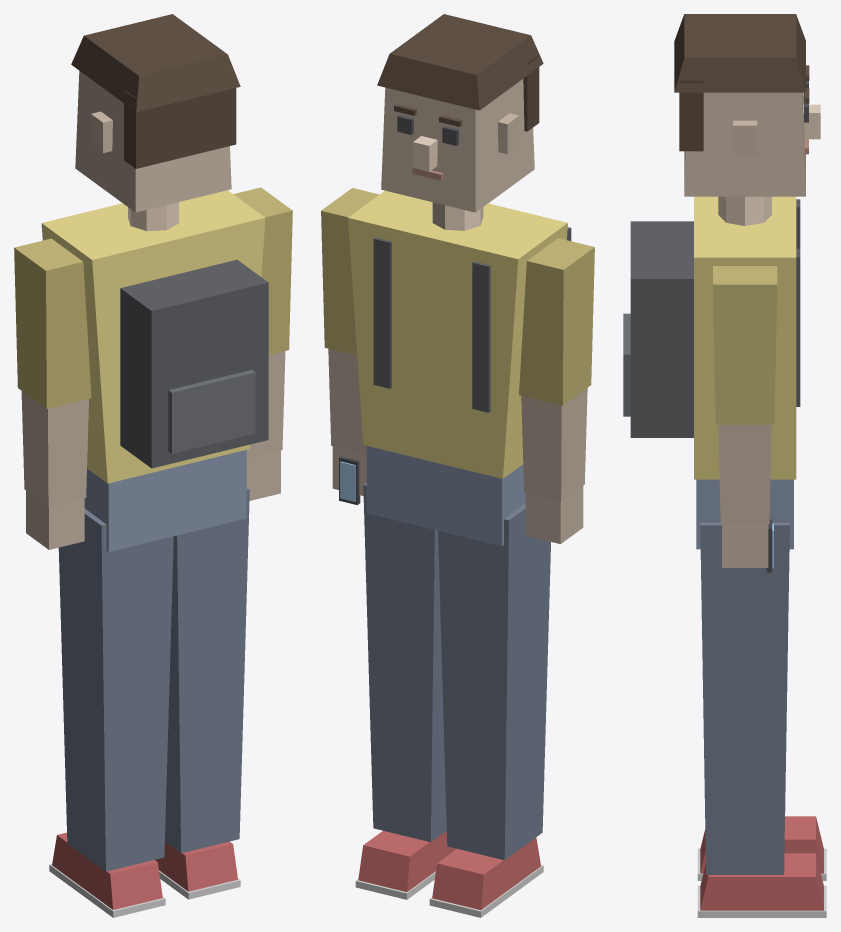
File: student.glb
The picture shows the model from 3 angles, left to right: view 1: azimuth 30°, elevation 25°; view 2: azimuth 150°, elevation 25°; view 3: azimuth 270°, elevation 25°; orthographic projection. The views are drawn at different scales.
Visible parts, largest first — view 1: Torso, LegMesh, LegMesh2, HeadMesh, ArmMesh, ArmMesh2; view 2: Torso, LegMesh, LegMesh2, HeadMesh, ArmMesh, ArmMesh2, Phone; view 3: Torso, LegMesh2, HeadMesh, ArmMesh2, LegMesh.
Boxes of the visible parts, x1,y1,x2,y2 form: Torso: (41,190,268,551); LegMesh: (49,509,173,917); LegMesh2: (155,487,249,899); HeadMesh: (71,14,240,212); ArmMesh: (14,238,91,549); ArmMesh2: (233,187,292,500); Torso: (348,190,571,546); LegMesh: (429,503,550,917); LegMesh2: (355,482,456,899); HeadMesh: (377,14,543,212); ArmMesh: (519,238,594,543); ArmMesh2: (321,188,379,495); Phone: (339,456,360,504); Torso: (623,196,800,549); LegMesh2: (697,522,826,917); HeadMesh: (674,14,820,196); ArmMesh2: (713,266,777,567); LegMesh: (697,816,826,880).
Size of the model in its own units: 0.591 by 1.93 by 0.4175.
